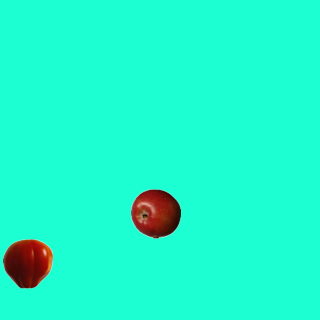Apple Braeburn: (130, 188, 180, 238)
Tomato 1: (2, 238, 52, 288)
